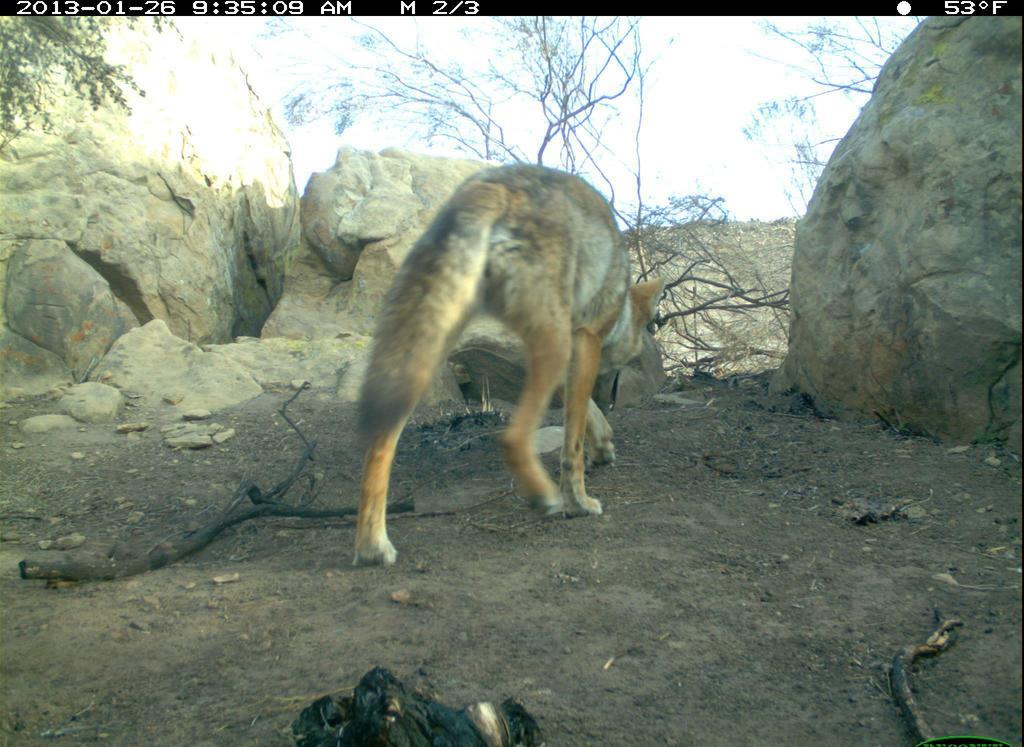coyote: (342, 157, 678, 578)
